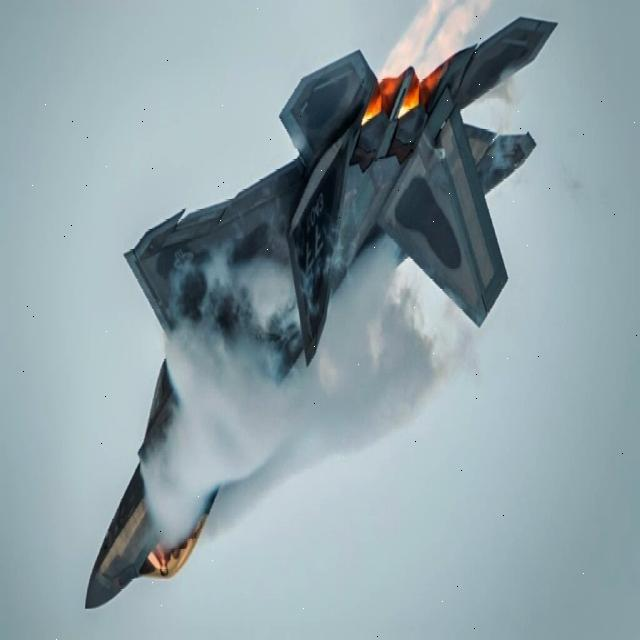F22: (62, 0, 612, 640)
